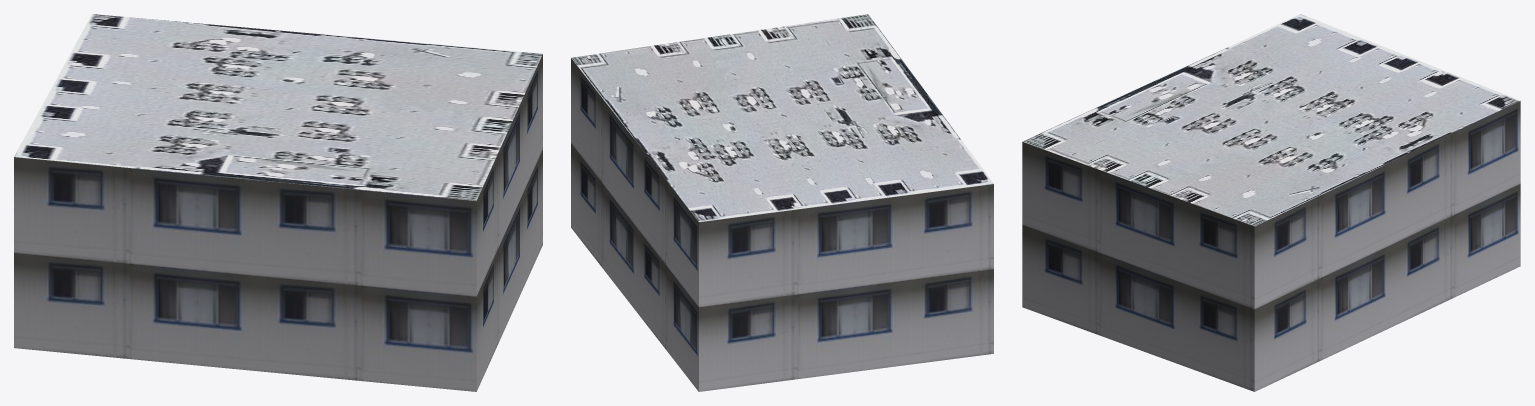
The model's file is ResTex__3118.fbx.
3 views of the same model, side by side, from view 1: azimuth 30°, elevation 25°; view 2: azimuth 150°, elevation 25°; view 3: azimuth 270°, elevation 25° (orthographic). The views are drawn at different scales.
Parts seen in each view (by area): view 1: CityEngineMaterial_9_m, CityEngineMaterial_m; view 2: CityEngineMaterial_9_m, CityEngineMaterial_m; view 3: CityEngineMaterial_9_m, CityEngineMaterial_m.
Boxes of the visible parts, x1,y1,x2,y2 form: CityEngineMaterial_9_m: (14, 54, 542, 391); CityEngineMaterial_m: (14, 14, 542, 200); CityEngineMaterial_9_m: (571, 58, 993, 391); CityEngineMaterial_m: (571, 14, 993, 221); CityEngineMaterial_9_m: (1022, 101, 1520, 391); CityEngineMaterial_m: (1022, 14, 1520, 226).
Bounding box in the file's own units: 16.51 × 6 × 16.37.
Materials: 2 (2 with a texture image).
